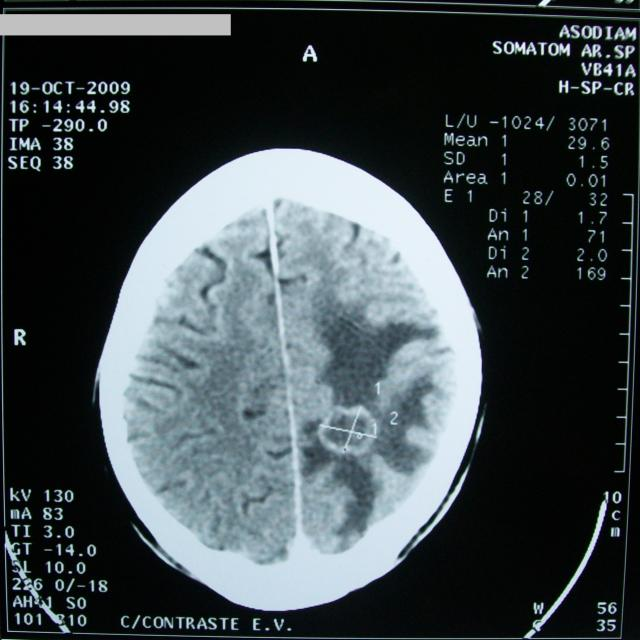Tumor: (300, 408, 387, 462)
